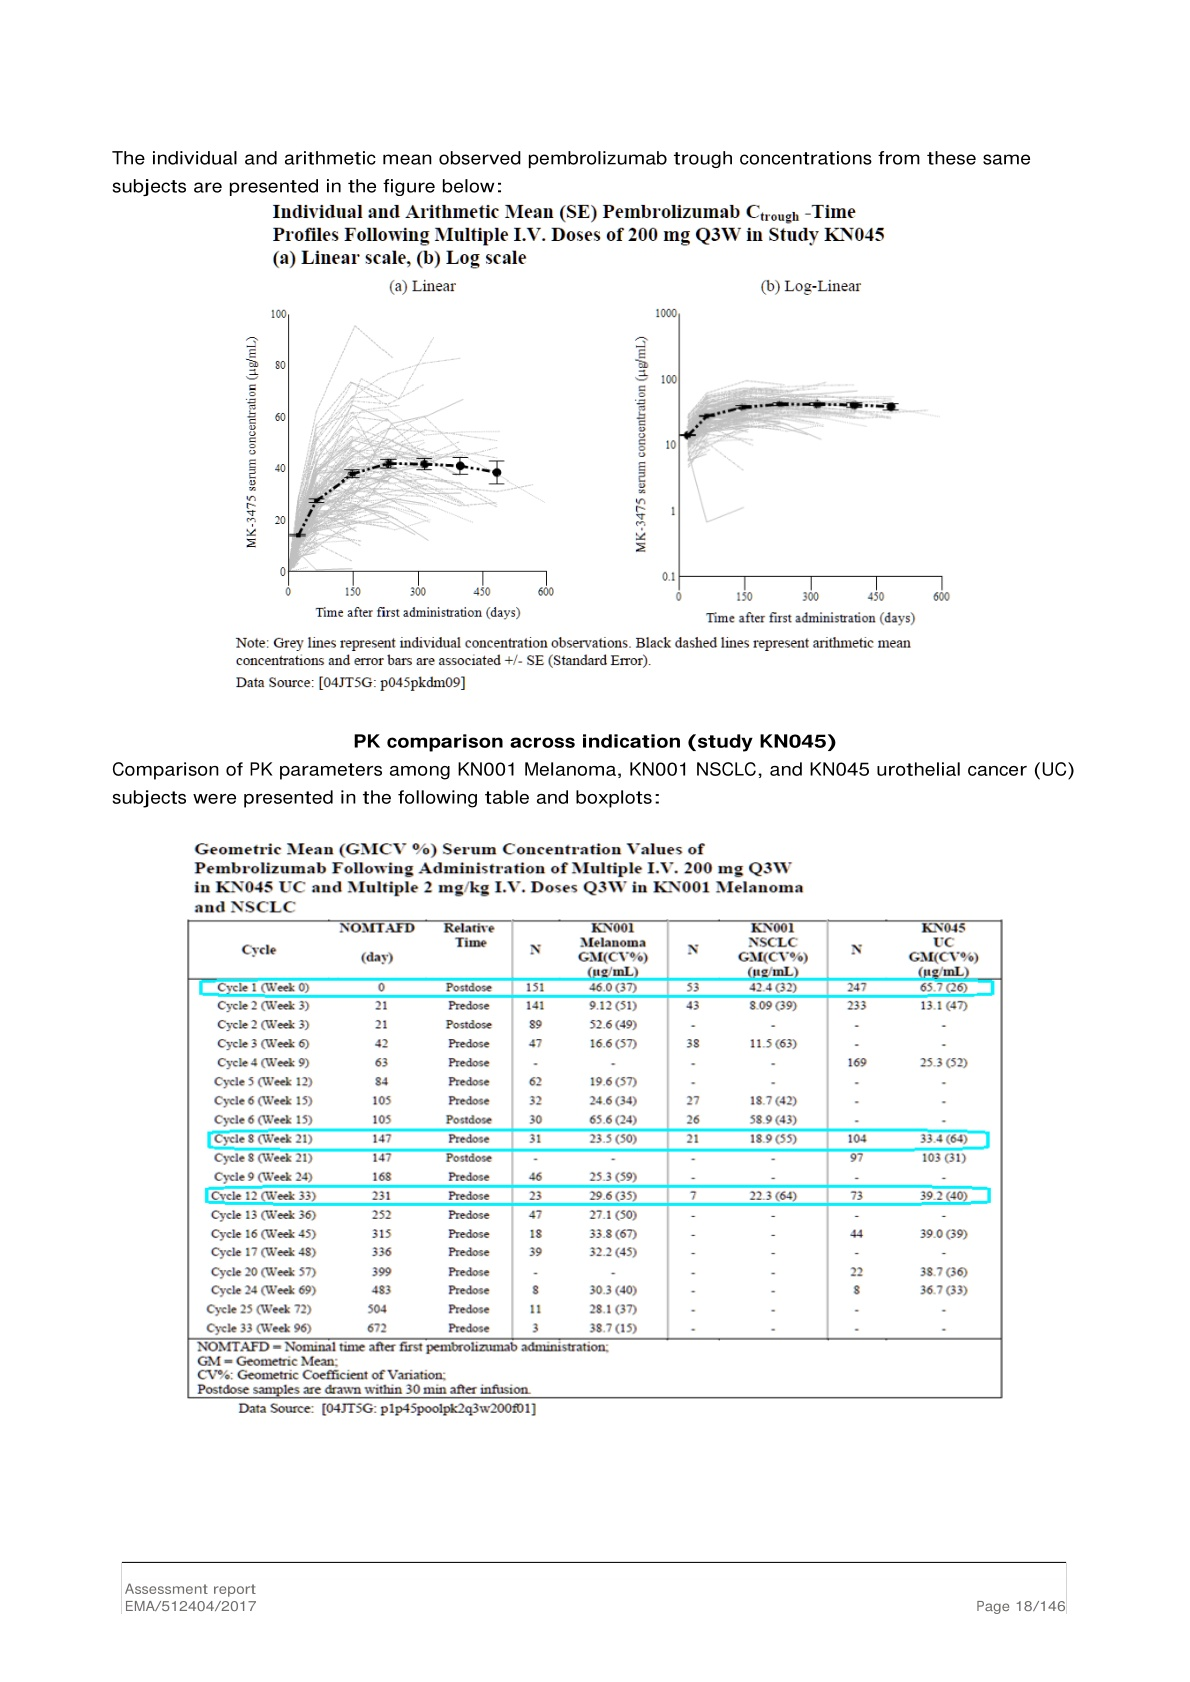partial_lined_merged_cells: (185, 918, 1005, 1403)
